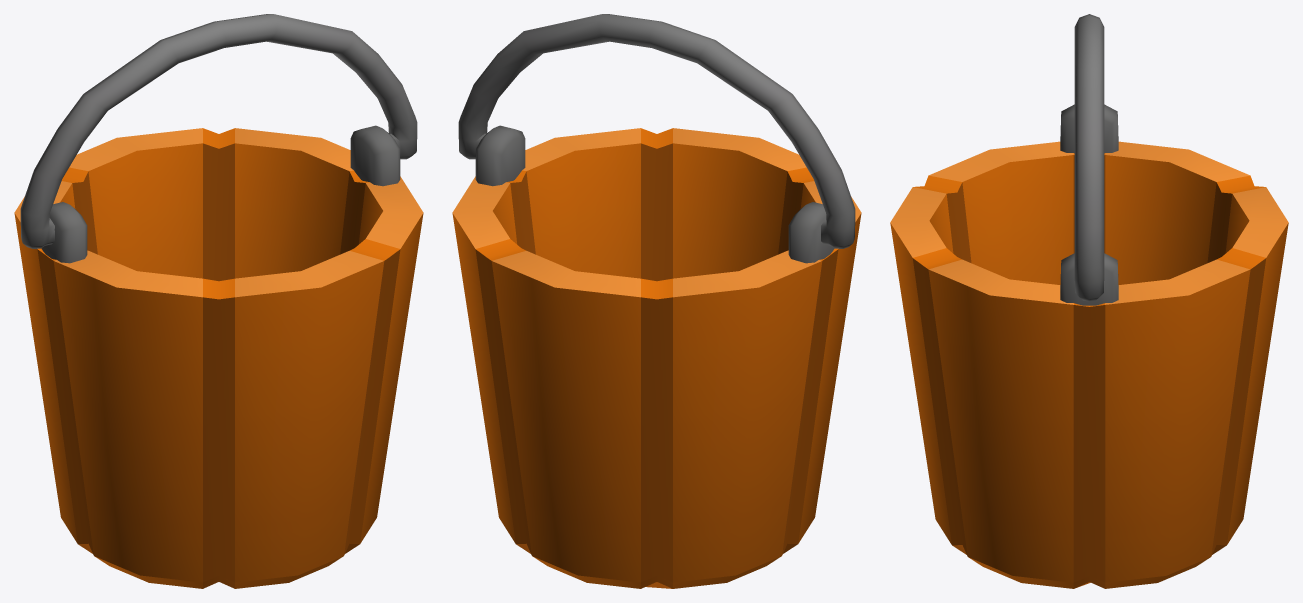
The model's file is Props_Bucket_01.fbx.
The picture shows the model from 3 angles, left to right: view 1: azimuth 30°, elevation 25°; view 2: azimuth 150°, elevation 25°; view 3: azimuth 270°, elevation 25°; orthographic projection. The views are drawn at different scales.
Visible parts, largest first — view 1: Props_Bucket_01; view 2: Props_Bucket_01; view 3: Props_Bucket_01.
Part boxes in pixels (bbox=[...]): Props_Bucket_01: bbox=[14, 14, 423, 588]; Props_Bucket_01: bbox=[452, 14, 861, 588]; Props_Bucket_01: bbox=[890, 14, 1288, 588].
Bounding box in the file's own units: 63.95 × 79.18 × 57.59.
